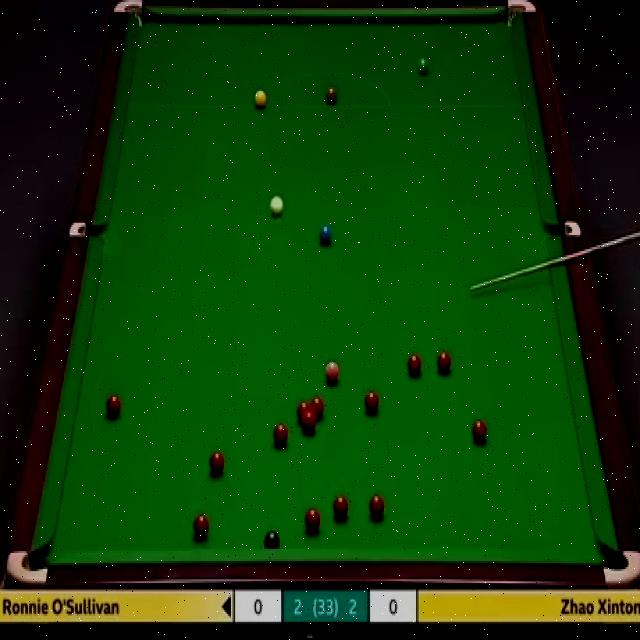black-ball: (264, 531, 280, 549)
blue-ball: (317, 221, 333, 246)
brown-ball: (325, 86, 337, 105)
green-ball: (415, 57, 430, 76)
pink-ball: (324, 357, 340, 384)
red-ball: (406, 352, 423, 381), (192, 513, 210, 539), (470, 421, 488, 447), (368, 493, 385, 520), (106, 393, 123, 420), (208, 449, 224, 477), (333, 494, 349, 520), (363, 390, 379, 416), (436, 352, 452, 376), (306, 507, 320, 533), (310, 396, 324, 422), (273, 423, 288, 446), (303, 414, 316, 434), (297, 401, 310, 421)
white-ball: (267, 191, 286, 220)
yellow-ball: (253, 88, 267, 108)
